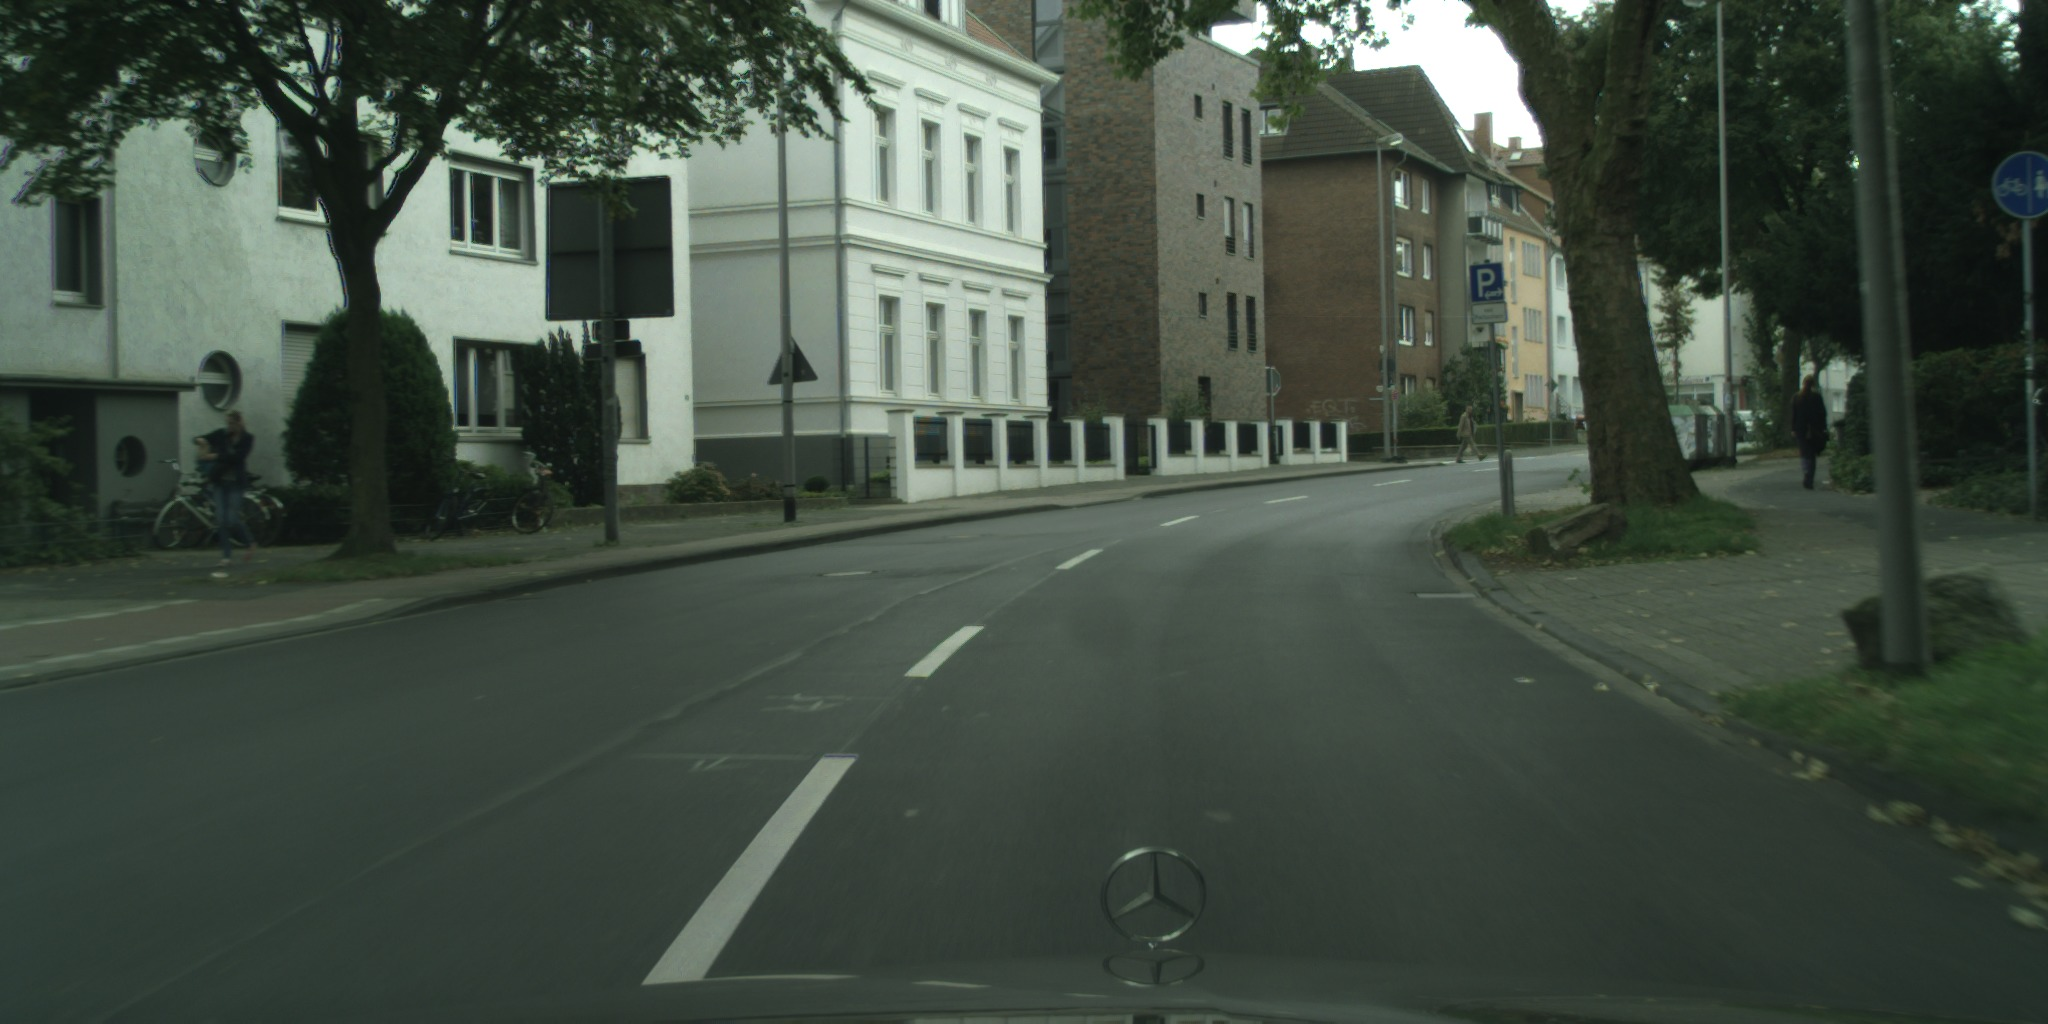bicycle: (422, 453, 494, 542), (509, 465, 554, 535)
car: (1735, 410, 1758, 439), (1730, 411, 1747, 442)
person: (191, 410, 258, 580), (1790, 375, 1829, 490), (1455, 405, 1488, 463)
